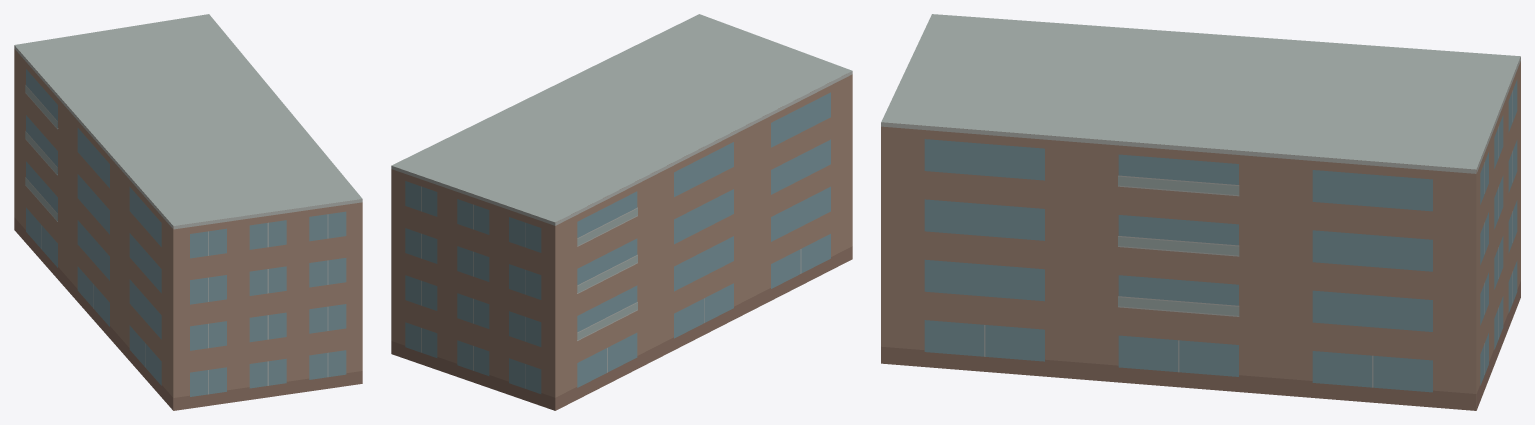
File: survey-upis-32871128.glb
3 renders of one model, left to right at view 1: azimuth 30°, elevation 25°; view 2: azimuth 150°, elevation 25°; view 3: azimuth 270°, elevation 25°, orthographic. The views are drawn at different scales.
Visible parts, largest first — view 1: survey-upis-32871128.tmp; view 2: survey-upis-32871128.tmp; view 3: survey-upis-32871128.tmp.
Part boxes in pixels (x1,y1,x2,y2): survey-upis-32871128.tmp: [14, 14, 362, 410]; survey-upis-32871128.tmp: [391, 14, 852, 410]; survey-upis-32871128.tmp: [881, 14, 1520, 410].
Bounding box in the file's own units: 18.67 × 13.5 × 32.44.
